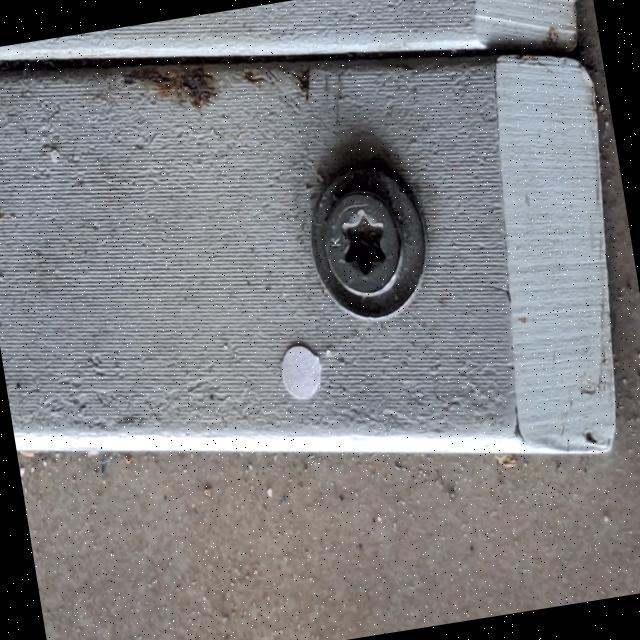Torx: (314, 183, 418, 317)
